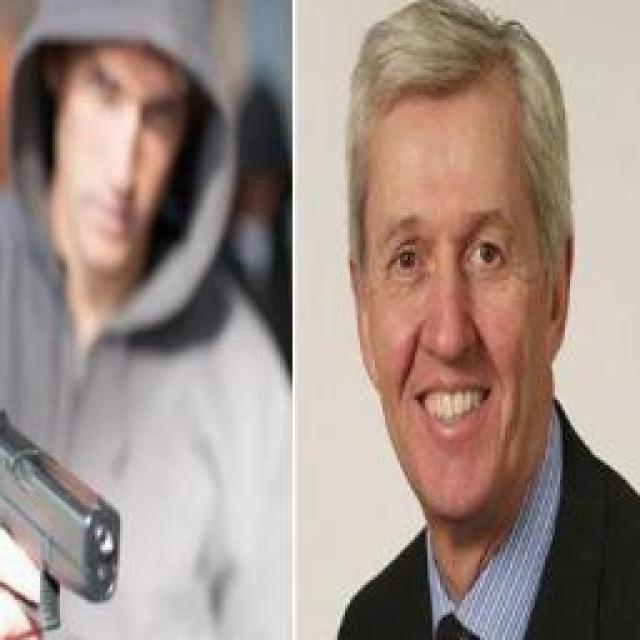pistol: (0, 407, 120, 635)
